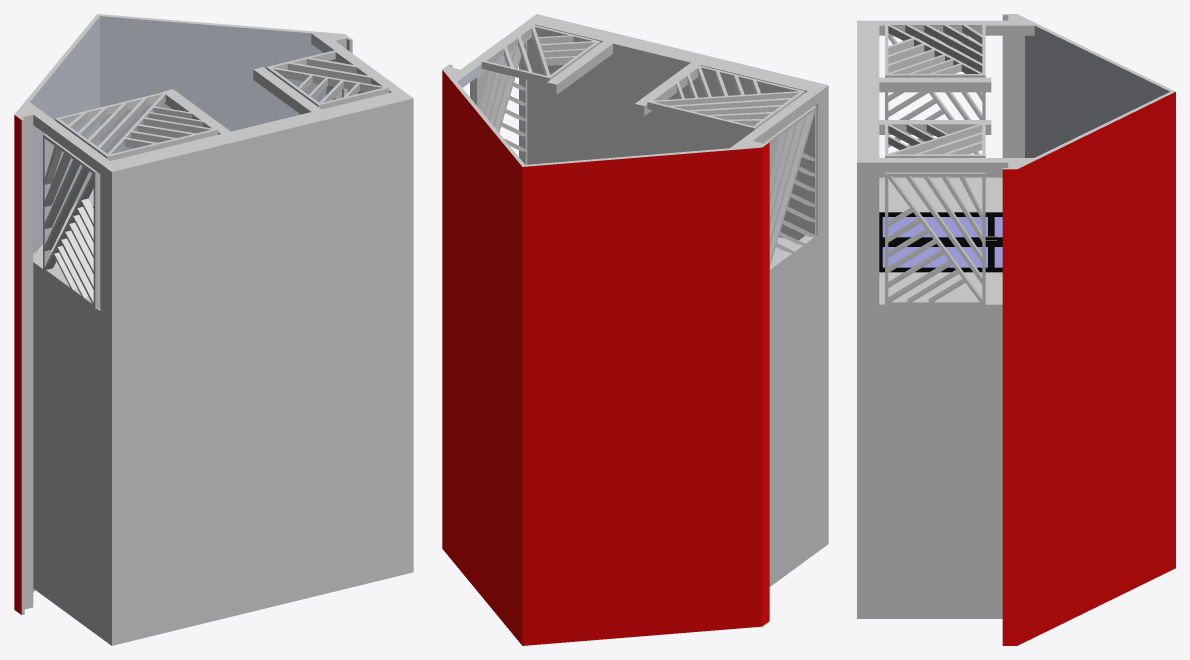
File: glamping_soba_polidor.glb
The picture shows the model from 3 angles, left to right: view 1: azimuth 30°, elevation 25°; view 2: azimuth 150°, elevation 25°; view 3: azimuth 270°, elevation 25°; orthographic projection. The views are drawn at different scales.
Visible parts, largest first — view 1: 3DGeom-307, 3DGeom-305, 3DGeom-311; view 2: 3DGeom-308, 3DGeom-307, 3DGeom-311; view 3: 3DGeom-307, 3DGeom-308, 3DGeom-305, 3DGeom-311, 3DGeom-309, 3DGeom-306.
Boxes of the visible parts, x1=… form: 3DGeom-307: x1=14, y1=14, x2=413, y2=645; 3DGeom-305: x1=30, y1=16, x2=391, y2=252; 3DGeom-311: x1=14, y1=115, x2=21, y2=614; 3DGeom-308: x1=442, y1=70, x2=762, y2=645; 3DGeom-307: x1=442, y1=14, x2=828, y2=586; 3DGeom-311: x1=762, y1=142, x2=769, y2=626; 3DGeom-307: x1=857, y1=14, x2=1175, y2=618; 3DGeom-308: x1=1017, y1=92, x2=1175, y2=645; 3DGeom-305: x1=1025, y1=26, x2=1169, y2=157; 3DGeom-311: x1=1002, y1=169, x2=1017, y2=645; 3DGeom-309: x1=882, y1=217, x2=1002, y2=267; 3DGeom-306: x1=879, y1=212, x2=1002, y2=272.
Size of the model in its own units: 0.00329 by 0.00472 by 0.00285.
